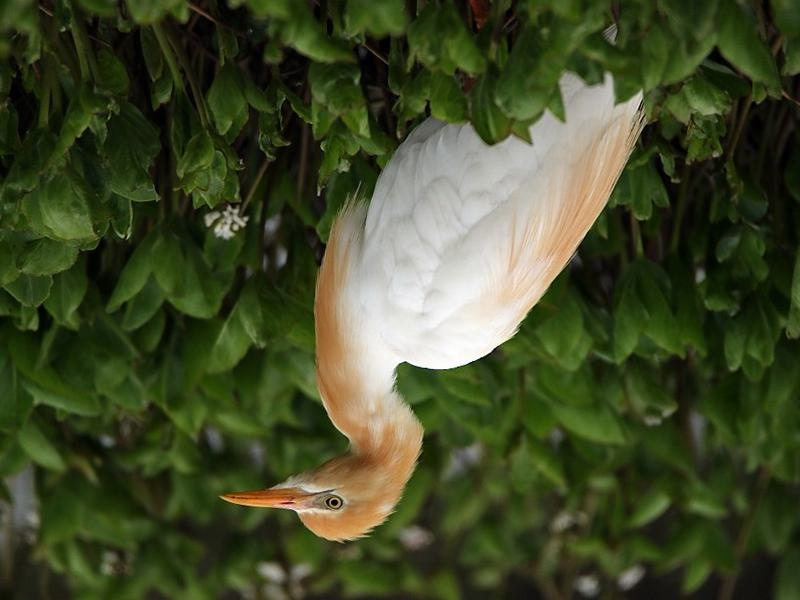egret: (212, 28, 687, 559)
